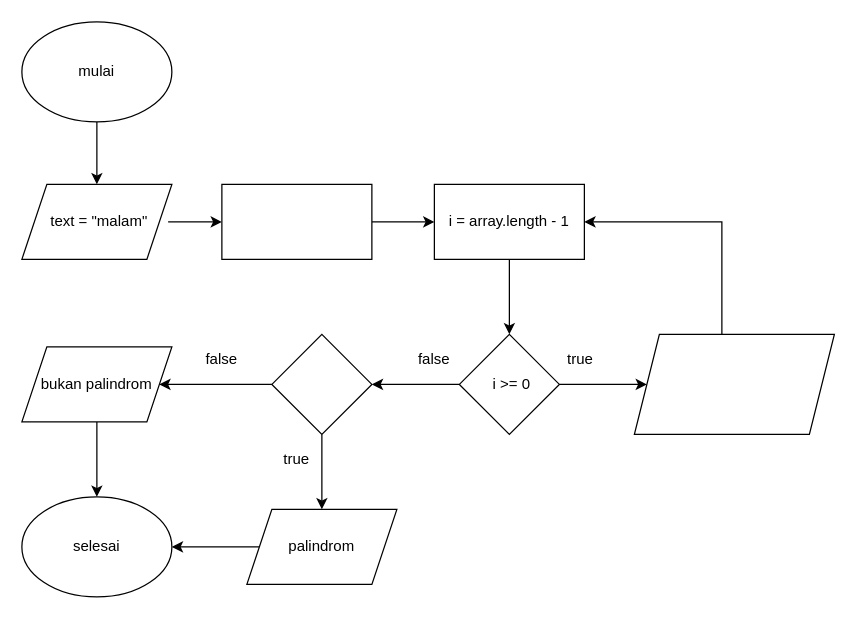
Some shapes in this 856 by 619 pixel diagram are drawn without their labels. Here are the shapes that lost their labels. From the top down, the centre of each, then its label:
point (296, 221): array = text.split('') output = ''
point (321, 383): text = output
point (733, 383): output += array[i] i --
